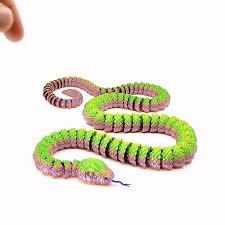3d print: (33, 77, 196, 185)
